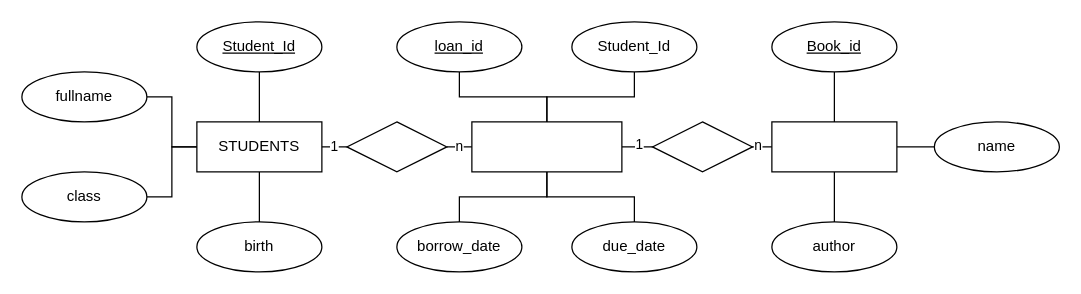
The diagram is 1081 pixels wide and 294 high, and some of its shapes have lost their labels. Here are the shapes that lost their labels. From the top down, the centre of each, then its label:
At point 396,146: "Mượn".
At point 546,146: "LOAN_CARDS".
At point 701,146: "chứa".
At point 834,146: "BOOKS".
